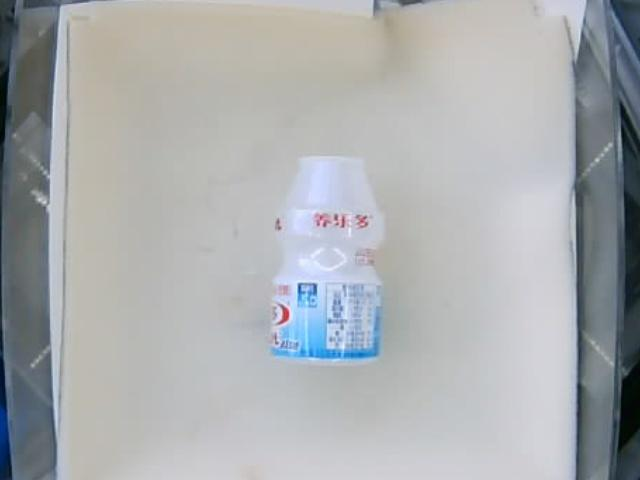Bottle: (274, 154, 379, 367)
